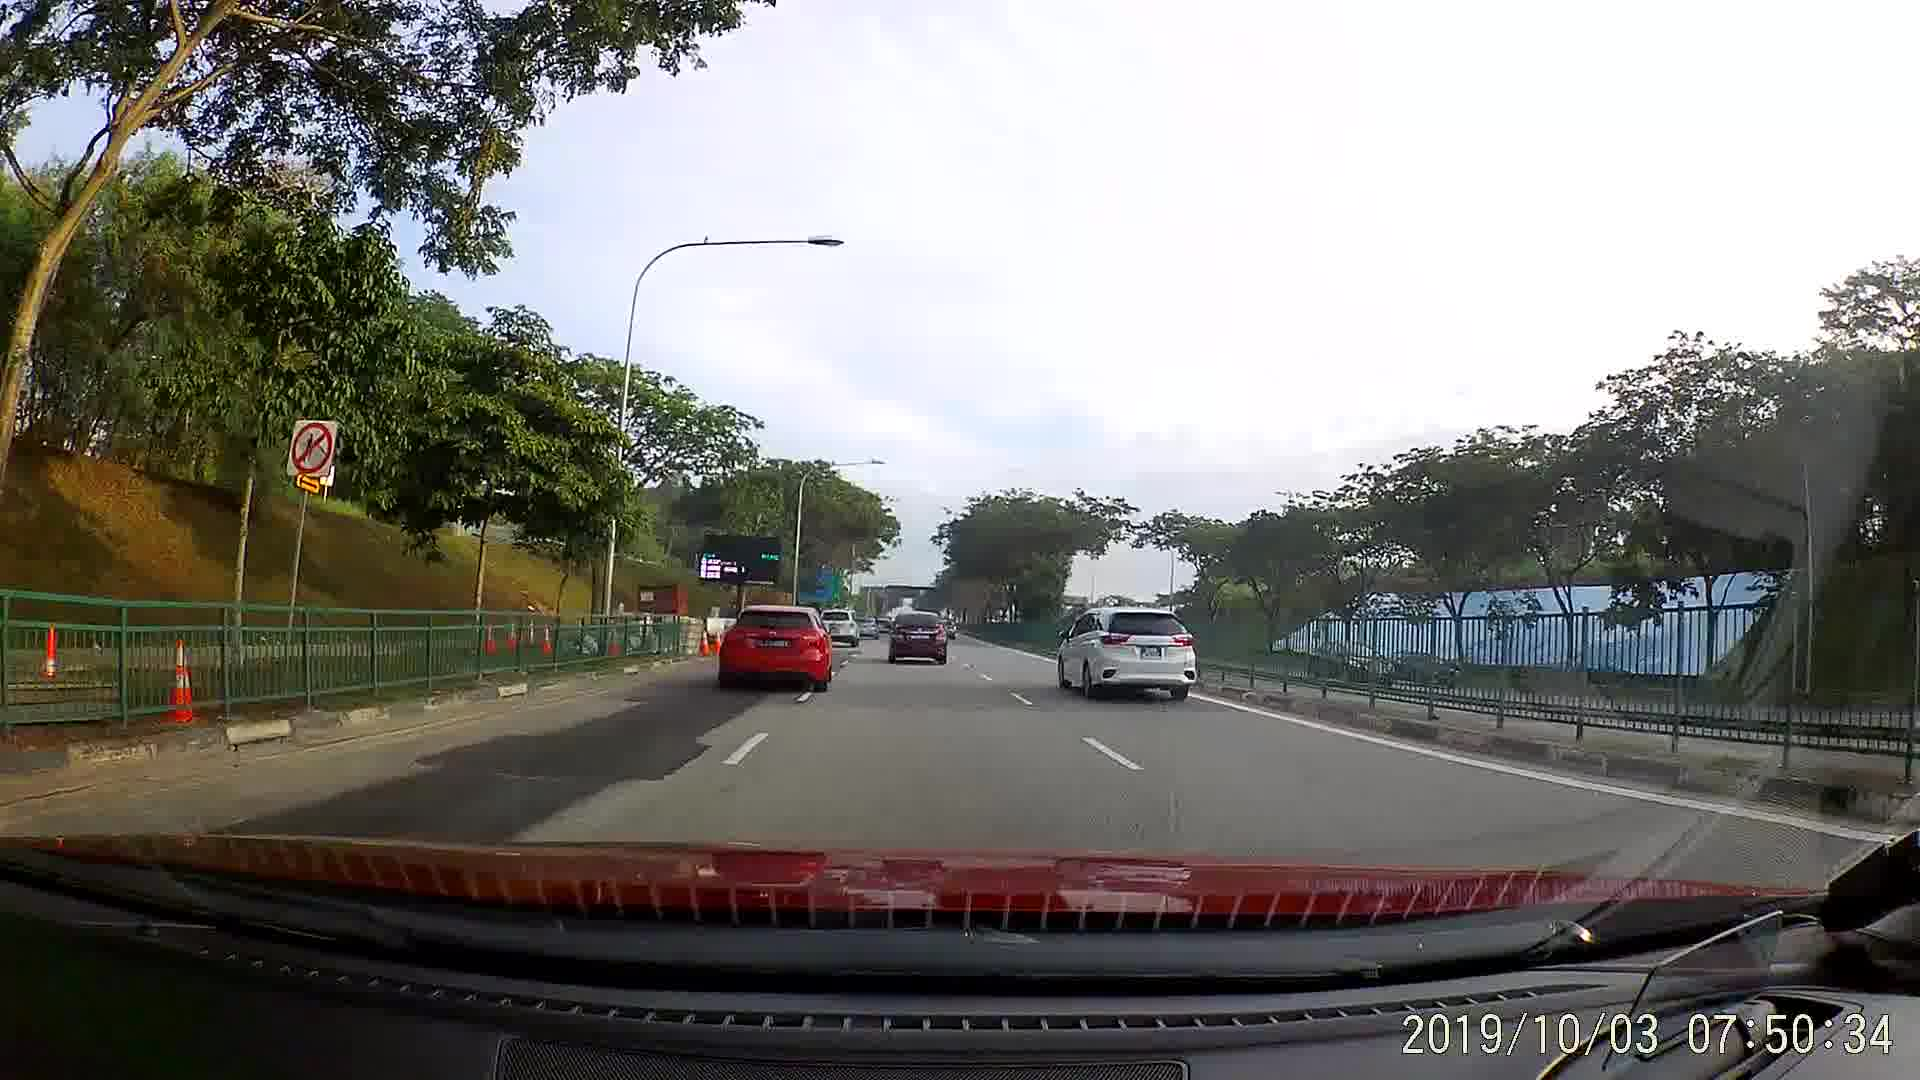car: (1058, 603, 1196, 707), (719, 599, 837, 699), (890, 603, 951, 673), (822, 611, 862, 650)
